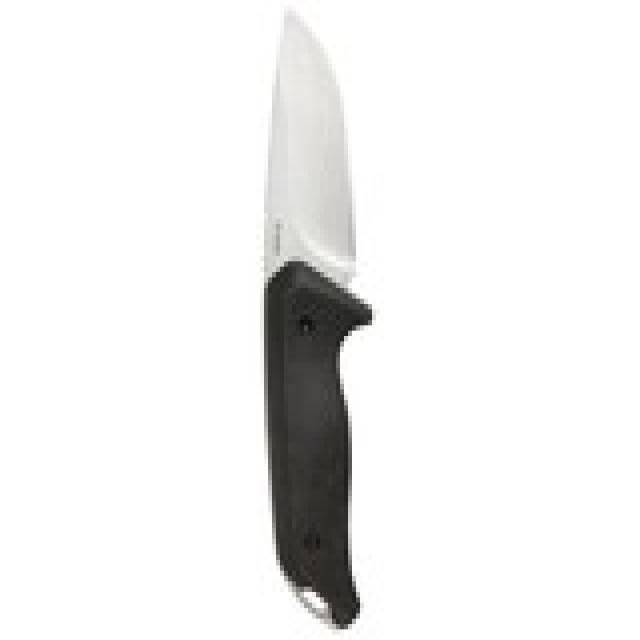Knife: (251, 1, 376, 638)
